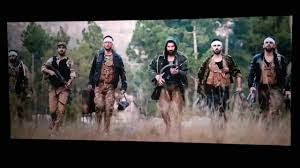gun: (154, 59, 182, 98), (44, 58, 69, 92), (245, 82, 256, 110)
uniform: (152, 50, 187, 123), (37, 52, 74, 120), (93, 48, 119, 124), (202, 54, 230, 122), (254, 48, 284, 111), (7, 61, 30, 128)
